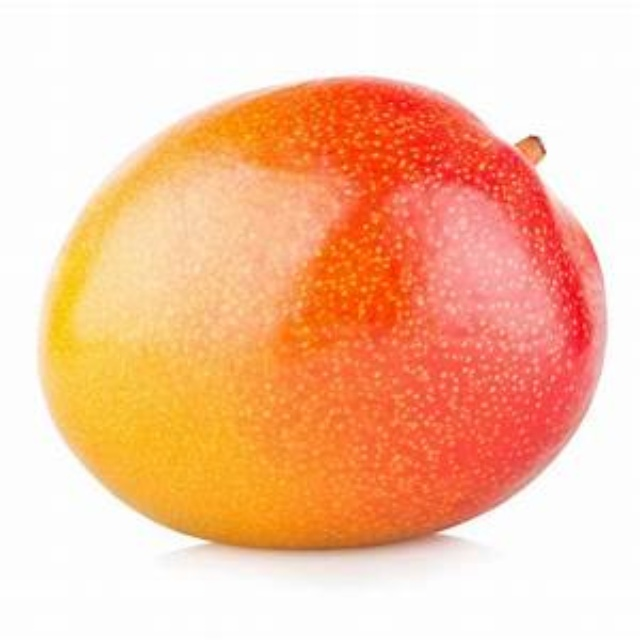mango: (39, 76, 607, 552)
